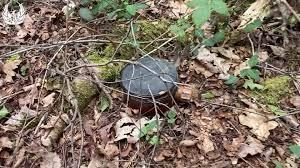pmn: (118, 56, 193, 110)
